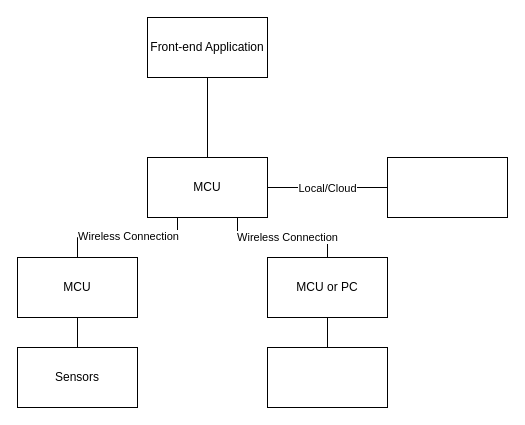
The diagram is 525 pixels wide and 425 high, and some of its shapes have lost their labels. Each missing label, with the centre of its shape:
"Camera" belongs at point 327,377.
"Database" belongs at point 447,187.
